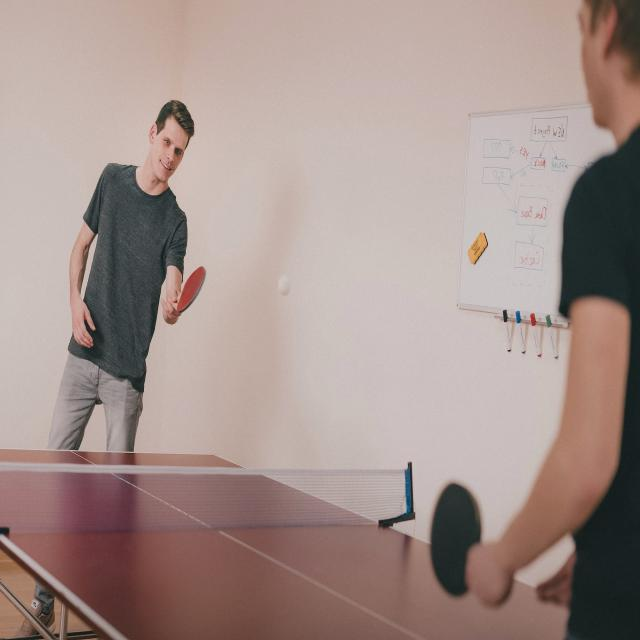adult: (465, 0, 640, 640), (53, 96, 192, 454)
